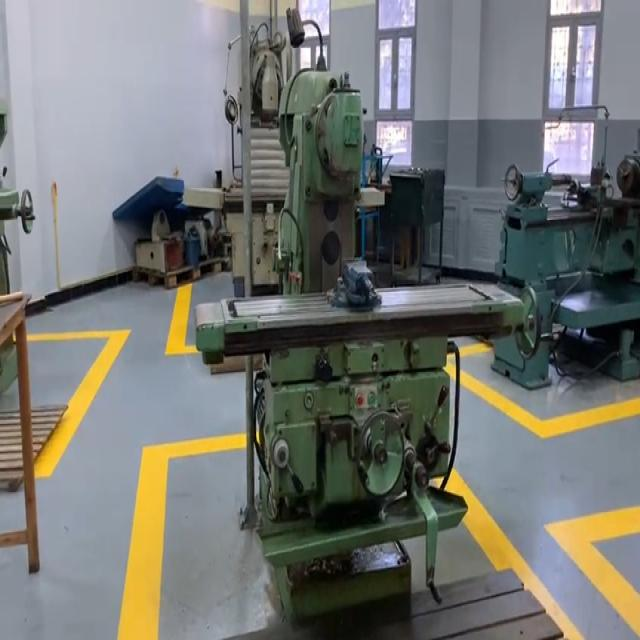fraiseuse: (197, 71, 527, 632)
